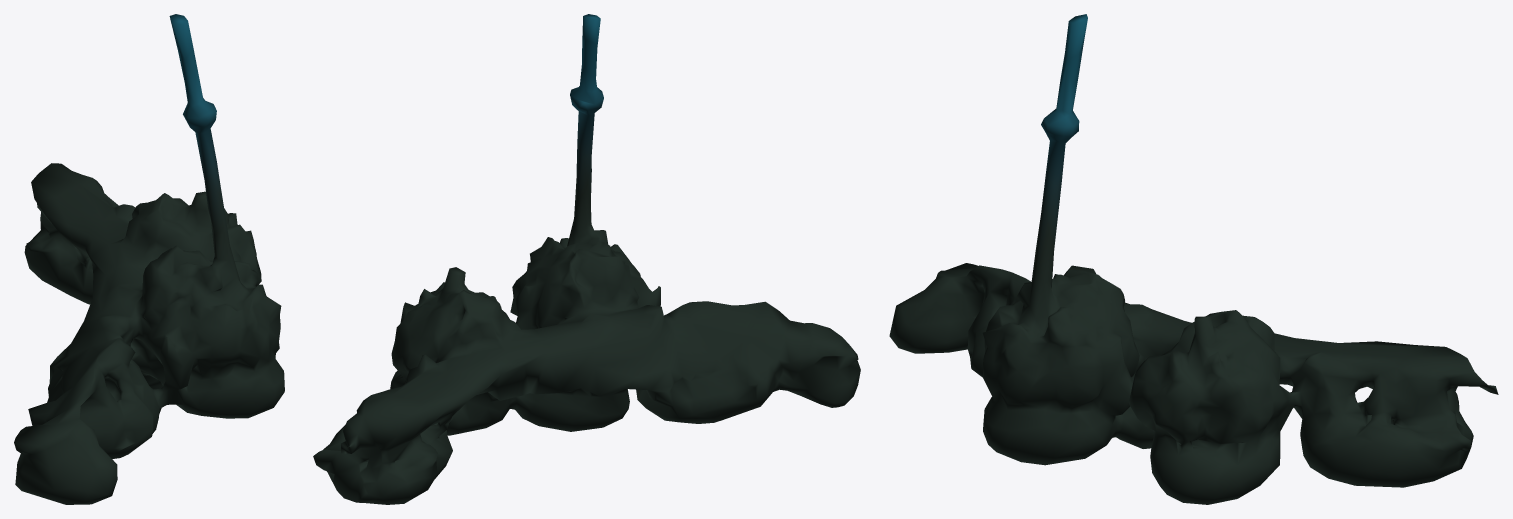
File: trade-supplies.glb
The picture shows the model from 3 angles, left to right: view 1: azimuth 30°, elevation 25°; view 2: azimuth 150°, elevation 25°; view 3: azimuth 270°, elevation 25°; orthographic projection. The views are drawn at different scales.
Visible parts, largest first — view 1: trade-supplies; view 2: trade-supplies; view 3: trade-supplies.
Boxes of the visible parts, x1,y1,x2,y2 form: trade-supplies: (14,14,284,504); trade-supplies: (313,14,860,504); trade-supplies: (889,14,1498,504).
Bounding box in the file's own units: 0.0119 × 0.0125 × 0.0162.
